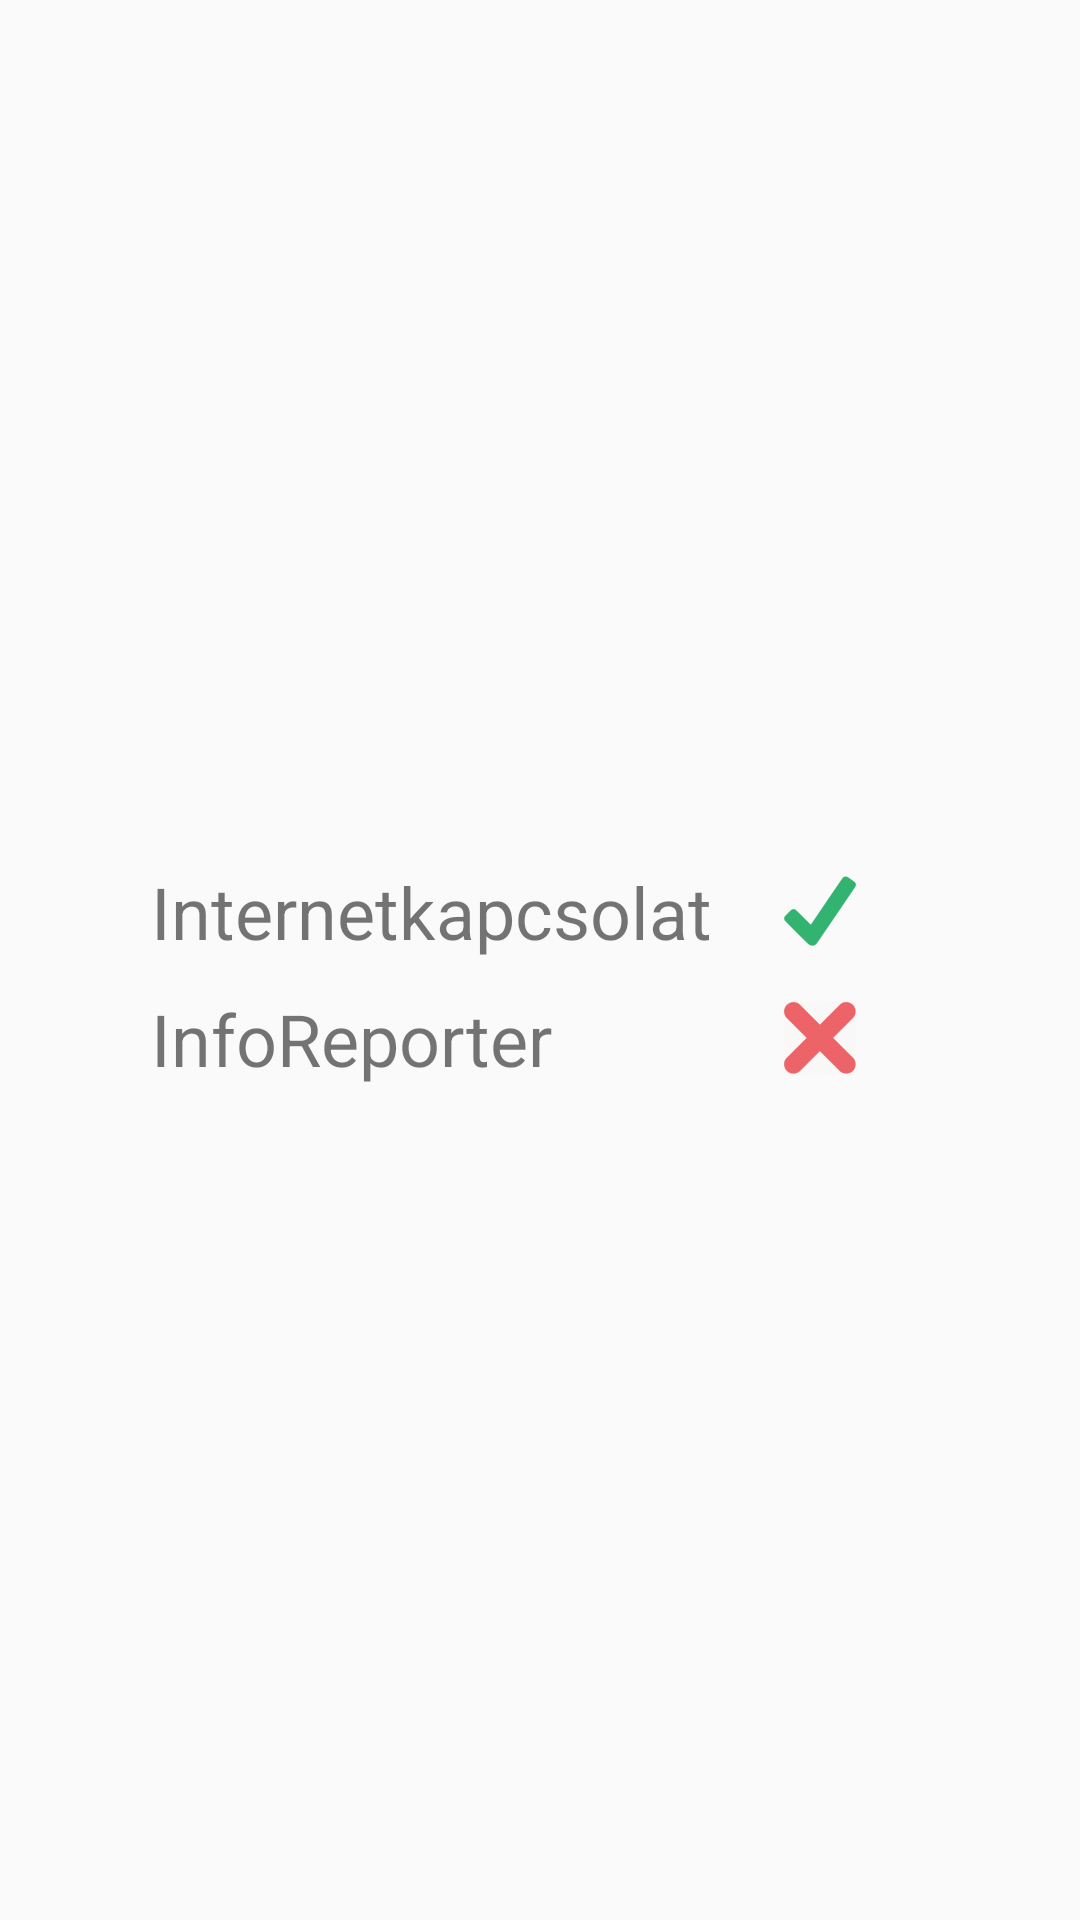

Icons on this 1080px×1920px Android screen, each with the point to tap as (x=x, y=y):
yes: (x=820, y=911)
